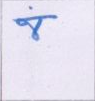anusvara: (29, 7, 33, 9)
